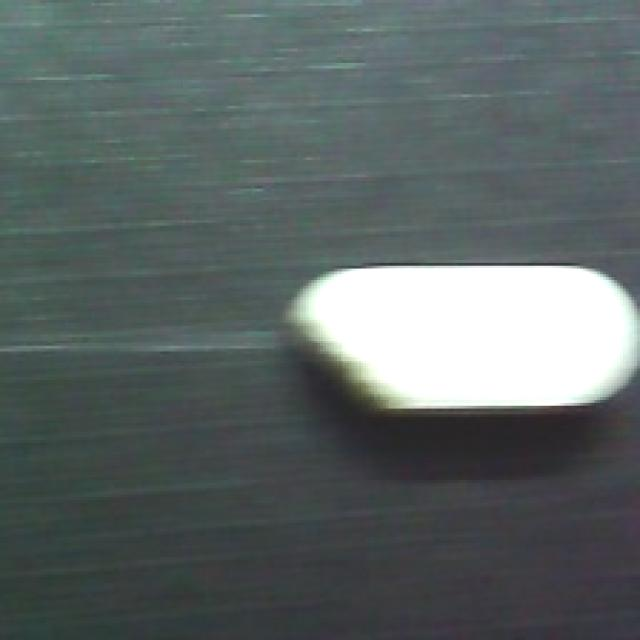defected: (277, 257, 640, 420)
